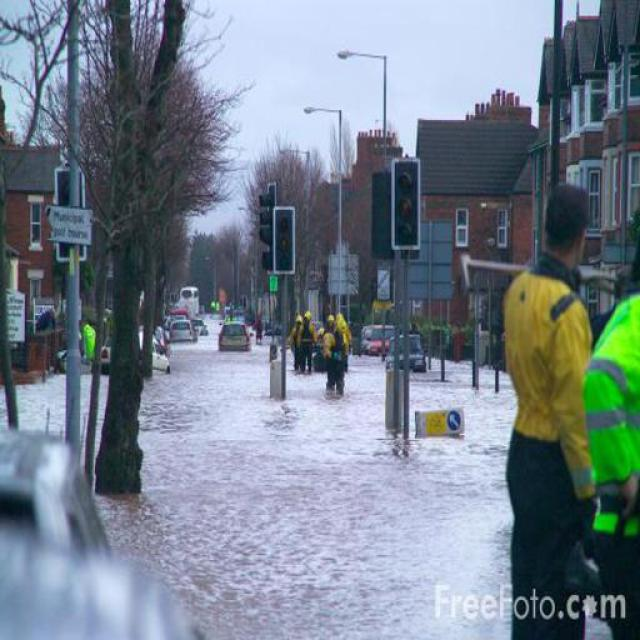puddle: (165, 396, 499, 640), (183, 348, 265, 615)
